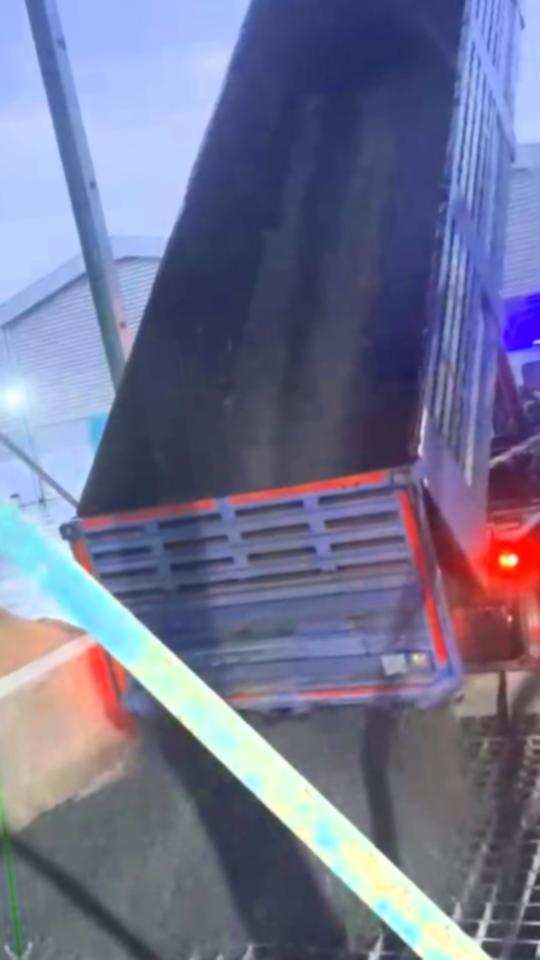gravel: (26, 709, 380, 960), (245, 704, 481, 910), (15, 859, 131, 960), (527, 791, 540, 822)
sand: (0, 606, 82, 683)
